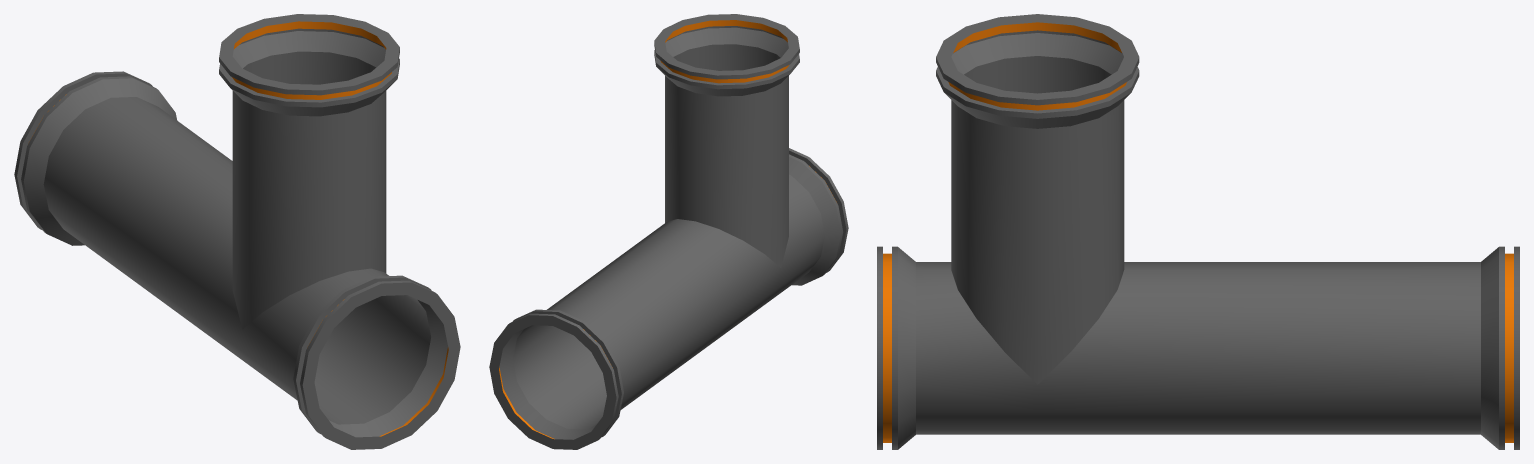
The model's file is Pipe_TShape_1.fbx.
3 renders of one model, left to right at view 1: azimuth 30°, elevation 25°; view 2: azimuth 150°, elevation 25°; view 3: azimuth 270°, elevation 25°, orthographic. The views are drawn at different scales.
Parts seen in each view (by area): view 1: Pipe_1.001; view 2: Pipe_1.001; view 3: Pipe_1.001.
Boxes of the visible parts, bbox=[...] form: Pipe_1.001: bbox=[14, 14, 460, 449]; Pipe_1.001: bbox=[489, 14, 848, 449]; Pipe_1.001: bbox=[877, 14, 1519, 449].
Bounding box in the file's own units: 63.29 × 132 × 200.
